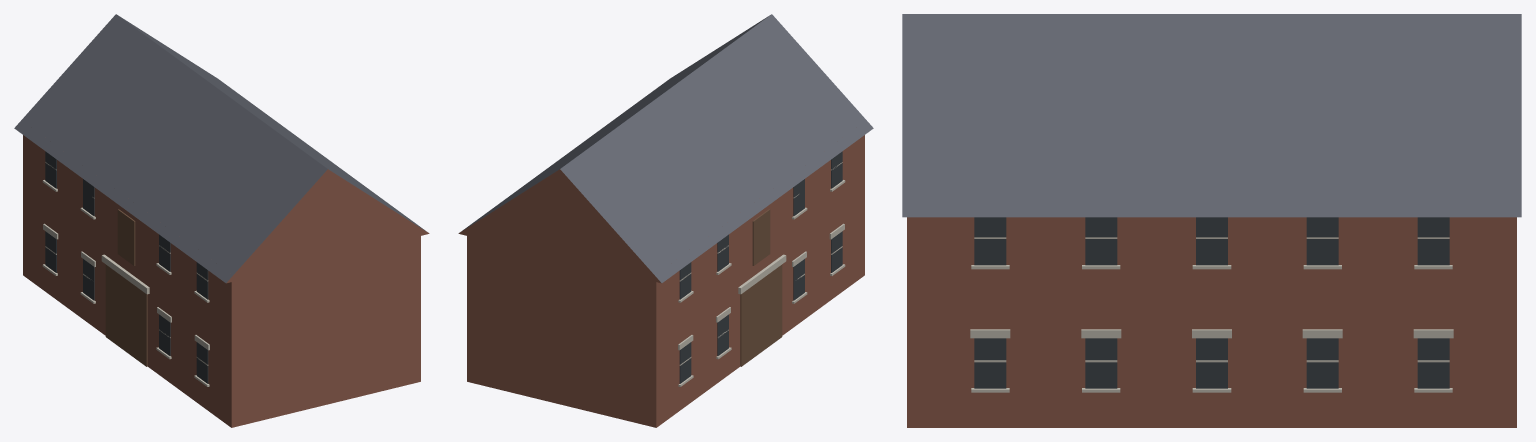
File: armour_corwith_house_1945_prairie_coach_house__draft_1904.glb
The picture shows the model from 3 angles, left to right: view 1: azimuth 30°, elevation 25°; view 2: azimuth 150°, elevation 25°; view 3: azimuth 270°, elevation 25°; orthographic projection. The views are drawn at different scales.
Parts seen in each view (by area): view 1: armour_corwith_house_1945_prairie_coach_house__draft_1904; view 2: armour_corwith_house_1945_prairie_coach_house__draft_1904; view 3: armour_corwith_house_1945_prairie_coach_house__draft_1904.
Part boxes in pixels (bbox=[...]): armour_corwith_house_1945_prairie_coach_house__draft_1904: bbox=[14, 14, 429, 427]; armour_corwith_house_1945_prairie_coach_house__draft_1904: bbox=[458, 14, 873, 427]; armour_corwith_house_1945_prairie_coach_house__draft_1904: bbox=[902, 14, 1521, 427].
Bounding box in the file's own units: 8.6 × 9.56 × 15.49.
